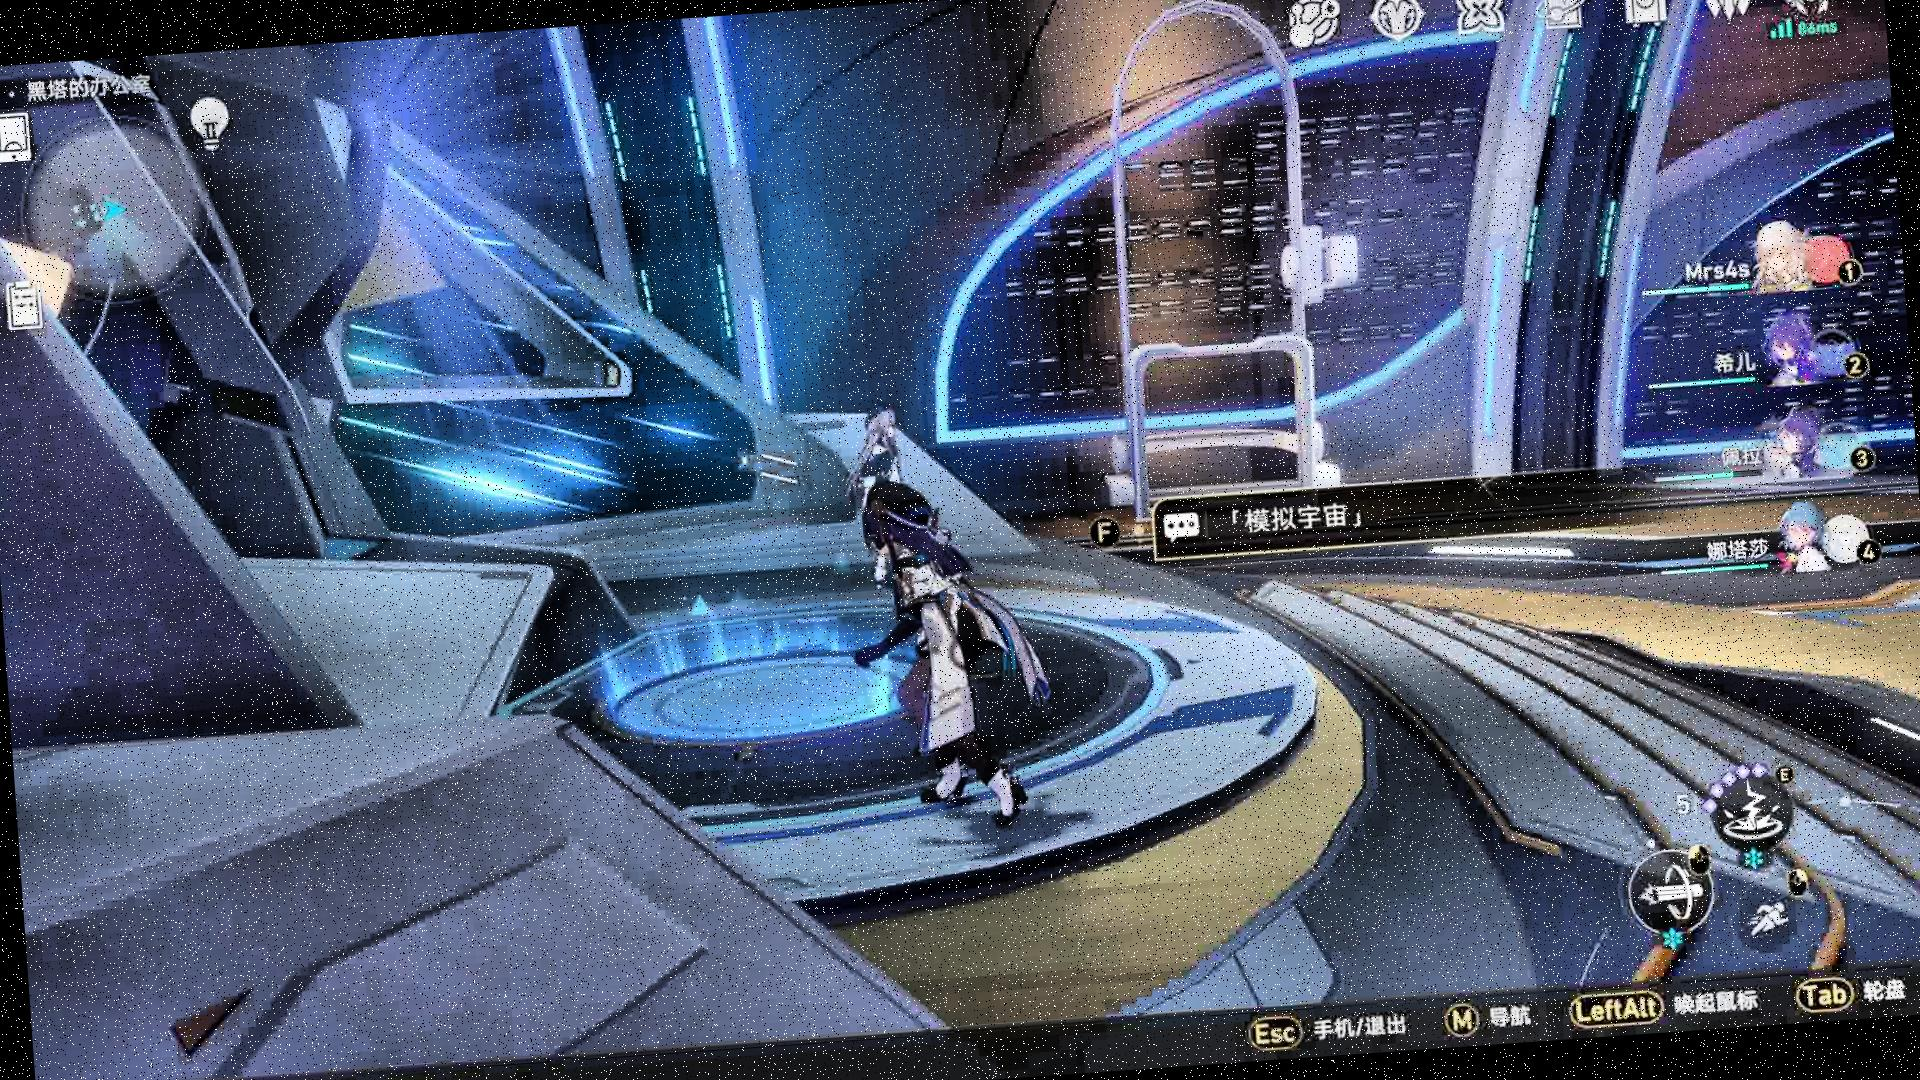Self: (844, 471, 1062, 839)
TeamMate: (841, 397, 909, 589)
